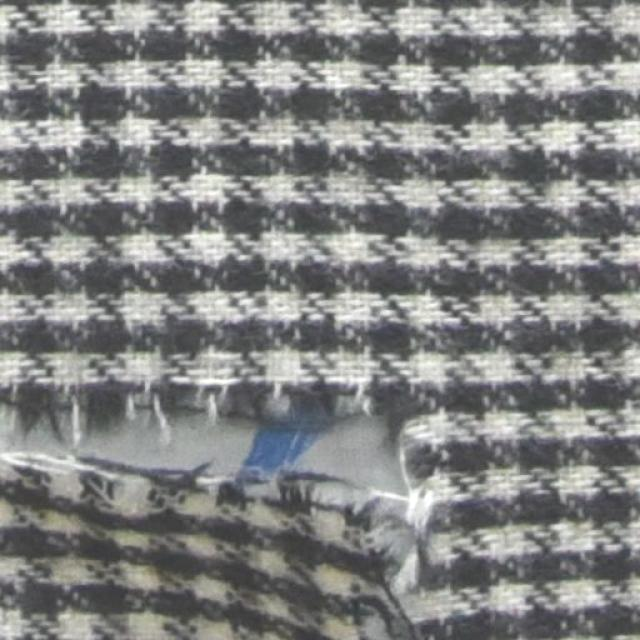Hole: (2, 410, 408, 487)
Snag: (355, 482, 441, 606)
